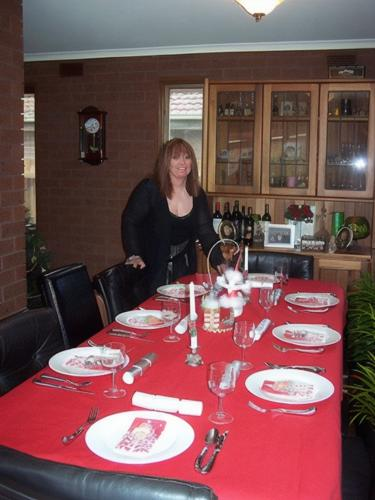bottle: (231, 200, 243, 241), (212, 202, 223, 234), (245, 207, 254, 245), (262, 203, 271, 226), (223, 204, 232, 221)
chair: (1, 445, 217, 500), (1, 304, 68, 401), (43, 263, 109, 349), (97, 259, 152, 321), (242, 252, 315, 281)
diningtable: (1, 273, 349, 500)
person: (121, 136, 227, 295)
person/hand: (126, 257, 147, 269), (218, 264, 227, 275)
person/head: (162, 138, 196, 181)
pottedplant: (347, 271, 375, 443)
